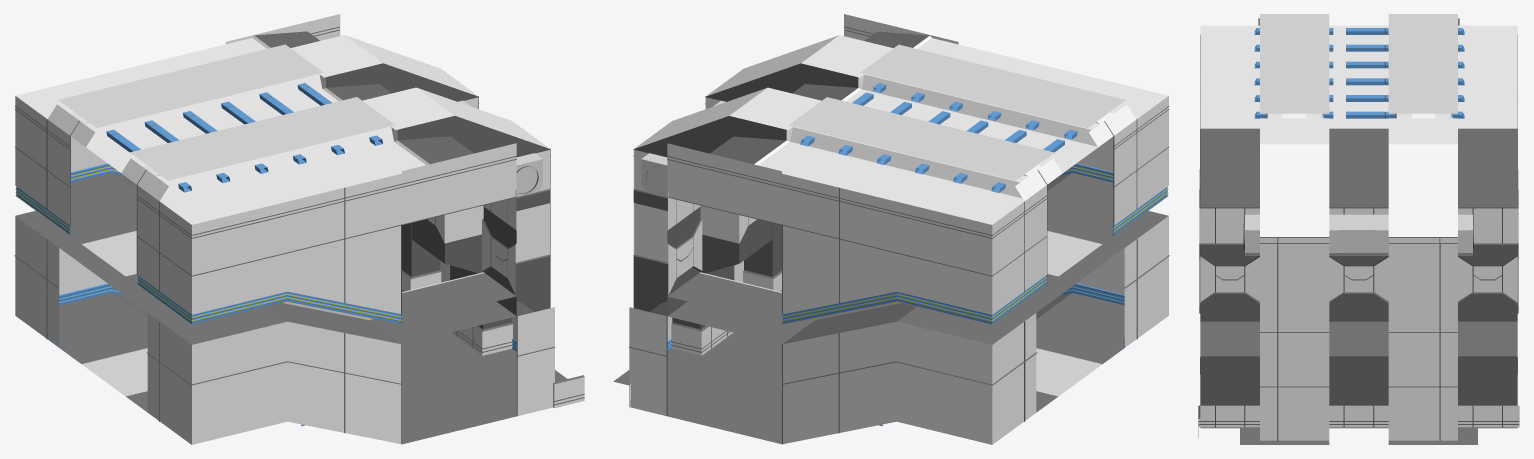
File: Lift.fbx
The picture shows the model from 3 angles, left to right: view 1: azimuth 30°, elevation 25°; view 2: azimuth 150°, elevation 25°; view 3: azimuth 270°, elevation 25°; orthographic projection. The views are drawn at different scales.
Parts seen in each view (by area): view 1: Lift_Wall, Lift_SecondFloor, Lift_Floor, Lift_Ceiling; view 2: Lift_Wall, Lift_SecondFloor, Lift_Floor, Lift_Ceiling; view 3: Lift_Wall, Lift_Ceiling, Lift_Floor.
Boxes of the visible parts, left/top/right/bottom form: Lift_Wall: left=14, top=14, right=584, bottom=444; Lift_SecondFloor: left=15, top=173, right=516, bottom=344; Lift_Floor: left=59, top=293, right=566, bottom=444; Lift_Ceiling: left=106, top=83, right=382, bottom=192; Lift_Wall: left=629, top=14, right=1169, bottom=444; Lift_SecondFloor: left=668, top=173, right=1168, bottom=344; Lift_Floor: left=613, top=293, right=1124, bottom=444; Lift_Ceiling: left=800, top=83, right=1077, bottom=192; Lift_Wall: left=1198, top=14, right=1519, bottom=440; Lift_Ceiling: left=1254, top=28, right=1464, bottom=118; Lift_Floor: left=1200, top=405, right=1517, bottom=444.
Size of the model in its own units: 21.05 by 14.45 by 16.2.
